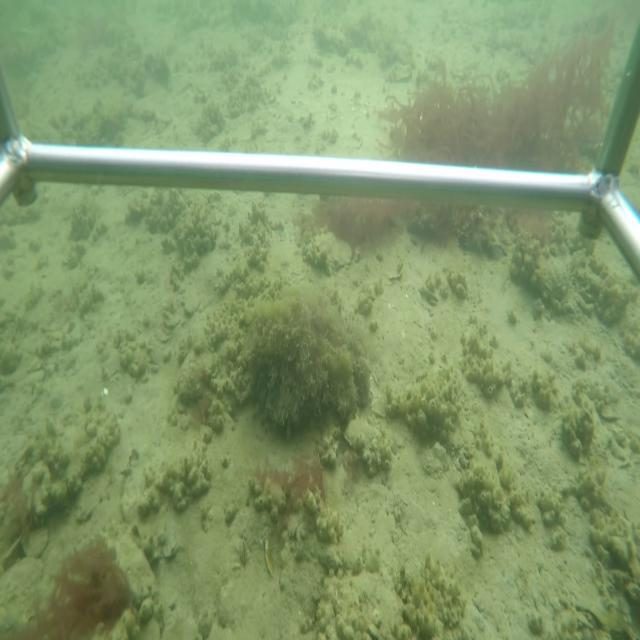Oyster-Closed: (302, 231, 354, 274)
Oyster-Indeterminate: (319, 571, 408, 638), (343, 417, 393, 456)
